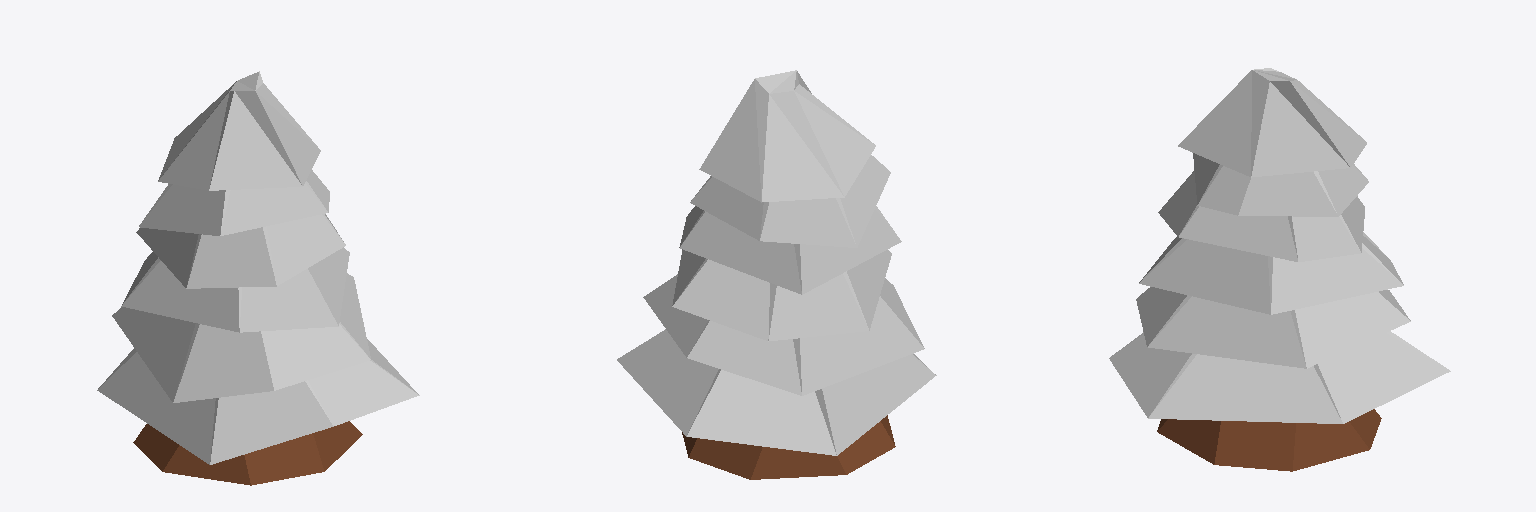
3 views of the same model, side by side, from view 1: azimuth 30°, elevation 25°; view 2: azimuth 150°, elevation 25°; view 3: azimuth 270°, elevation 25° (orthographic).
Visible parts, largest first — view 1: Cube.002_Cube.003, Cube.003_Cube.004, Cube.007_Cube.008, Cube.004_Cube.005, Cube.005_Cube.006, Cube.006_Cube.007, Cube; view 2: Cube.002_Cube.003, Cube.007_Cube.008, Cube.003_Cube.004, Cube.004_Cube.005, Cube.006_Cube.007, Cube.005_Cube.006, Cube; view 3: Cube.002_Cube.003, Cube.003_Cube.004, Cube.007_Cube.008, Cube.004_Cube.005, Cube, Cube.005_Cube.006, Cube.006_Cube.007.
Boxes of the visible parts, box(x1,y1,x2,y2) form: Cube.002_Cube.003: box(97, 339, 419, 464); Cube.003_Cube.004: box(112, 273, 370, 402); Cube.007_Cube.008: box(158, 71, 320, 190); Cube.004_Cube.005: box(121, 247, 349, 332); Cube.005_Cube.006: box(136, 214, 345, 288); Cube.006_Cube.007: box(139, 170, 329, 235); Cube: box(133, 421, 362, 485); Cube.002_Cube.003: box(617, 329, 936, 455); Cube.007_Cube.008: box(699, 70, 875, 202); Cube.003_Cube.004: box(643, 274, 924, 395); Cube.004_Cube.005: box(672, 249, 891, 341); Cube.006_Cube.007: box(690, 155, 890, 247); Cube.005_Cube.006: box(679, 206, 901, 294); Cube: box(682, 415, 895, 479); Cube.002_Cube.003: box(1109, 331, 1450, 423); Cube.003_Cube.004: box(1136, 287, 1410, 368); Cube.007_Cube.008: box(1178, 68, 1366, 177); Cube.004_Cube.005: box(1139, 232, 1403, 314); Cube: box(1157, 409, 1381, 471); Cube.005_Cube.006: box(1158, 171, 1364, 261); Cube.006_Cube.007: box(1193, 153, 1368, 216).
Bounding box in the file's own units: 11.05 × 15.78 × 13.67.
3 materials, 1 textured.